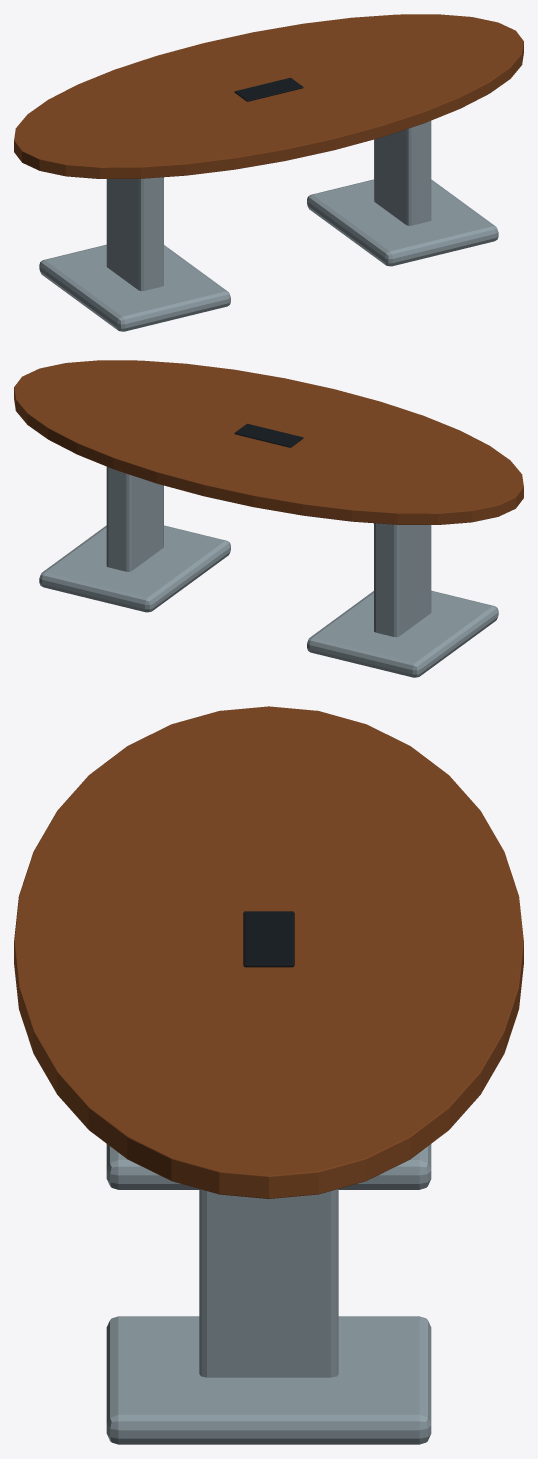
File: edited.glb
3 renders of one model, top to bottom at view 1: azimuth 30°, elevation 25°; view 2: azimuth 150°, elevation 25°; view 3: azimuth 270°, elevation 25°, orthographic. The views are drawn at different scales.
Parts seen in each view (by area): view 1: TOP_Oval, FOOT.001, FOOT, PEDESTAL, PEDESTAL.001, CABLE_Panel; view 2: TOP_Oval, FOOT.001, FOOT, PEDESTAL, PEDESTAL.001, CABLE_Panel; view 3: TOP_Oval, FOOT.001, PEDESTAL.001, FOOT, CABLE_Panel.
Part boxes in pixels (x1,y1,x2,y2): TOP_Oval: [14, 14, 523, 178]; FOOT.001: [307, 179, 498, 266]; FOOT: [39, 244, 230, 331]; PEDESTAL: [106, 177, 163, 291]; PEDESTAL.001: [374, 121, 431, 225]; CABLE_Panel: [234, 77, 303, 101]; TOP_Oval: [14, 360, 523, 524]; FOOT.001: [39, 525, 230, 612]; FOOT: [307, 590, 498, 677]; PEDESTAL: [374, 523, 431, 637]; PEDESTAL.001: [106, 467, 163, 571]; CABLE_Panel: [234, 423, 303, 447]; TOP_Oval: [14, 706, 523, 1198]; FOOT.001: [106, 1316, 431, 1444]; PEDESTAL.001: [199, 1189, 338, 1377]; FOOT: [106, 1144, 431, 1189]; CABLE_Panel: [243, 911, 294, 967].
Bounding box in the file's own units: 2.4 × 0.786 × 1.1.
